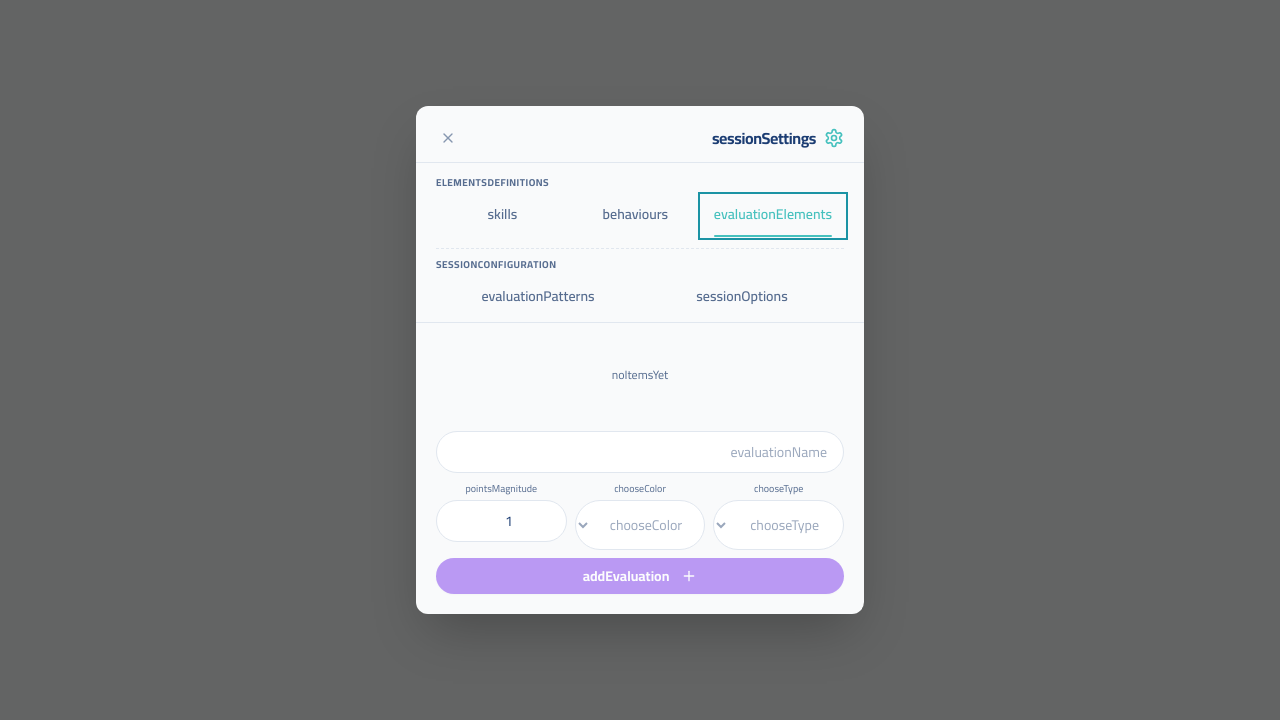
SidebarSettingsDialog — أنماط التقييم category selector › each column row renders a category select with coursework/exams options
Step 1. Click the button "evaluationPatterns" → (538, 298), box [436, 278, 640, 318]
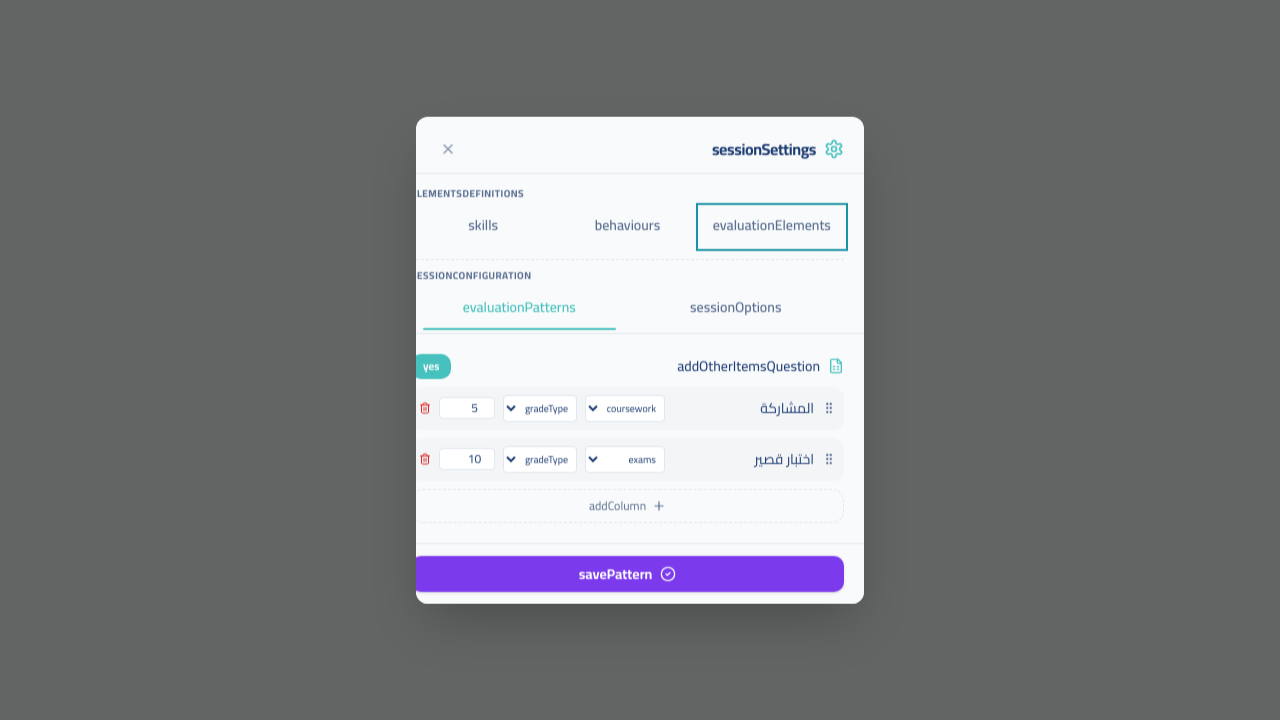
expect the dropdown with test id "col-group-part" shows "coursework": met, box [585, 394, 665, 421]
expect the dropdown with test id "col-group-quiz" shows "exams": met, box [585, 445, 665, 472]
